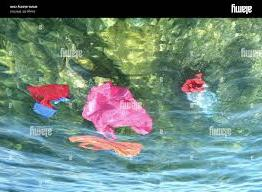Trash: (77, 77, 154, 141), (60, 125, 141, 175)
